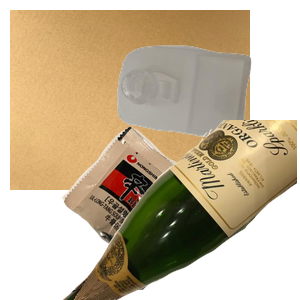cardboard: (10, 10, 250, 190)
glass: (60, 120, 300, 300)
plastic: (115, 43, 300, 177)
trash: (59, 124, 273, 300)
